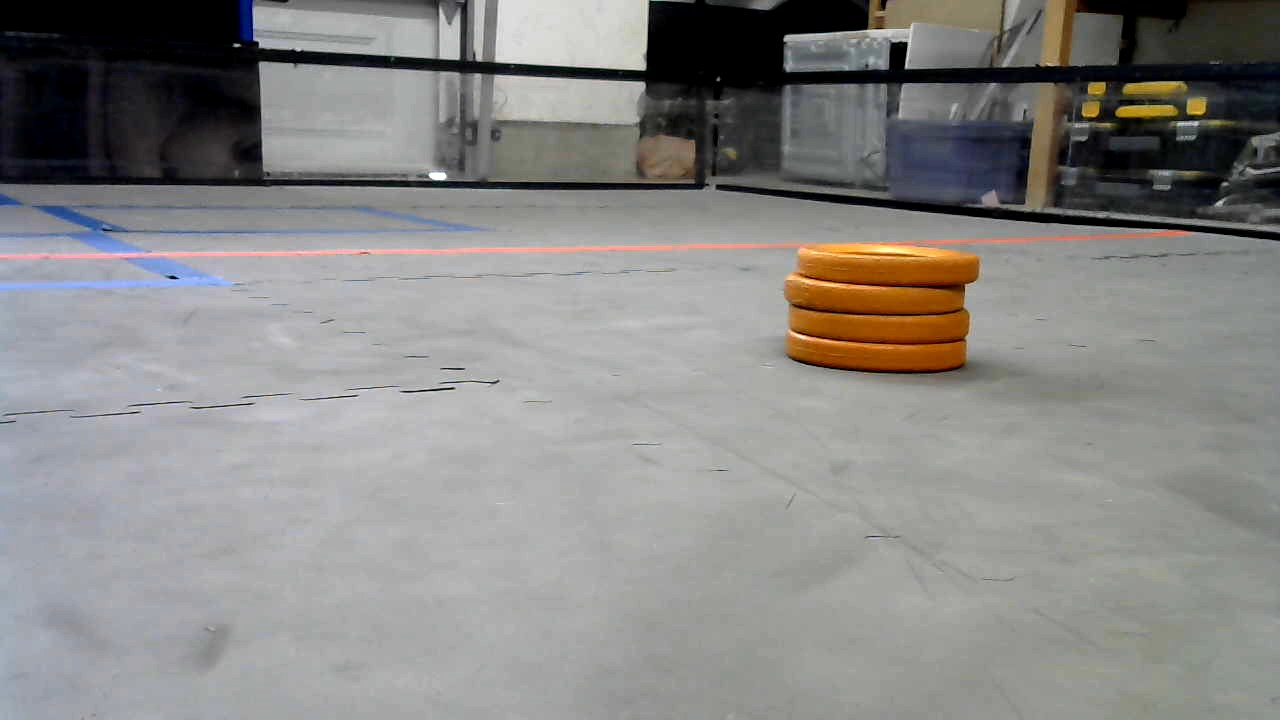FourStack: (787, 245, 980, 373)
